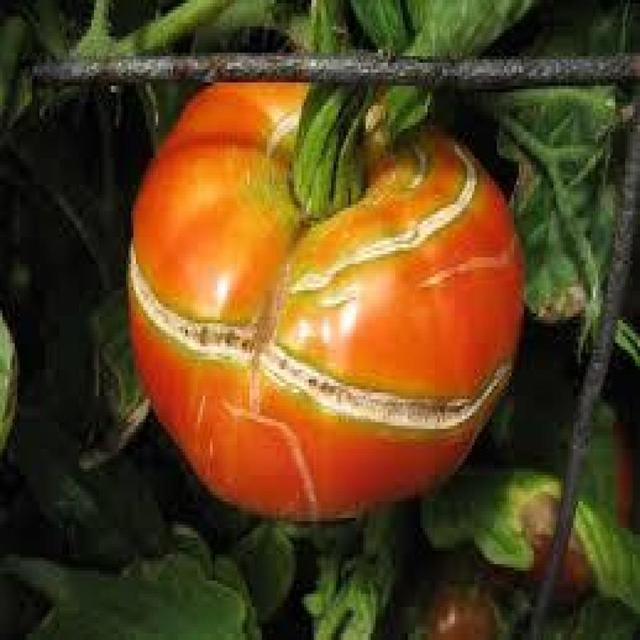Cracking Fruit: (132, 94, 267, 218)
